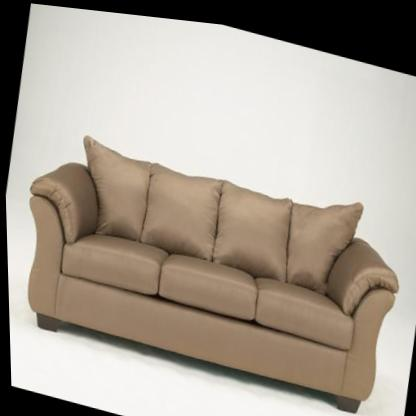Sofa: (6, 117, 405, 412)
